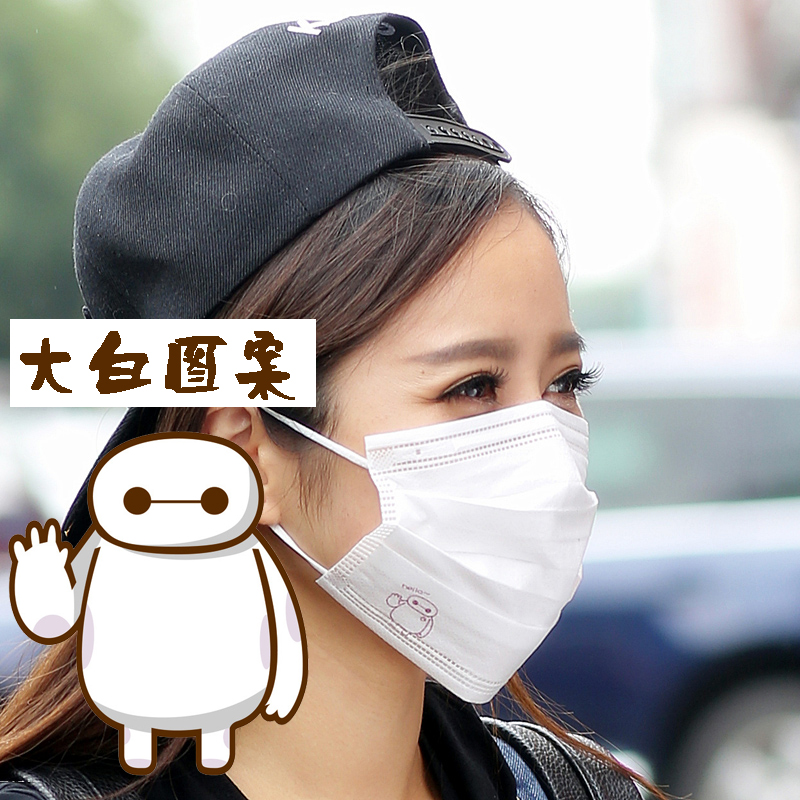face_mask: (321, 219, 601, 646)
